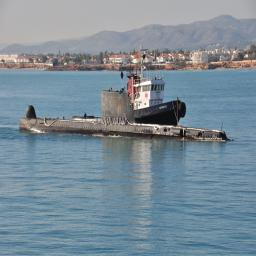submarine: (19, 90, 231, 143)
